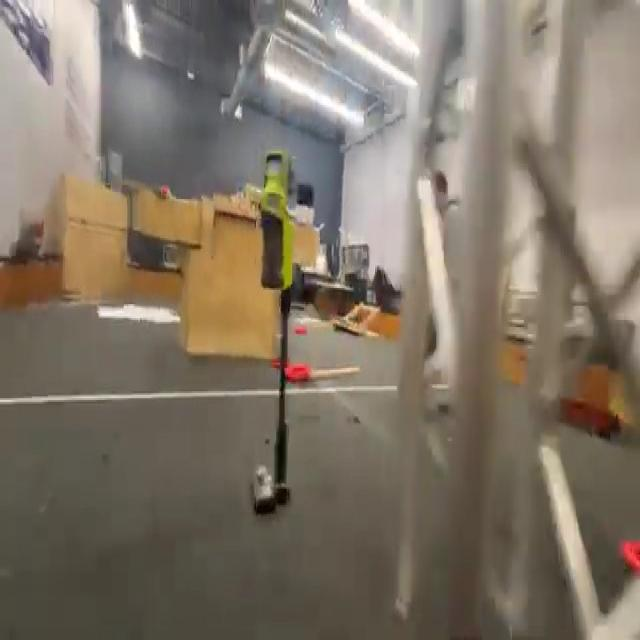note: (619, 533, 640, 571), (285, 362, 313, 386)
